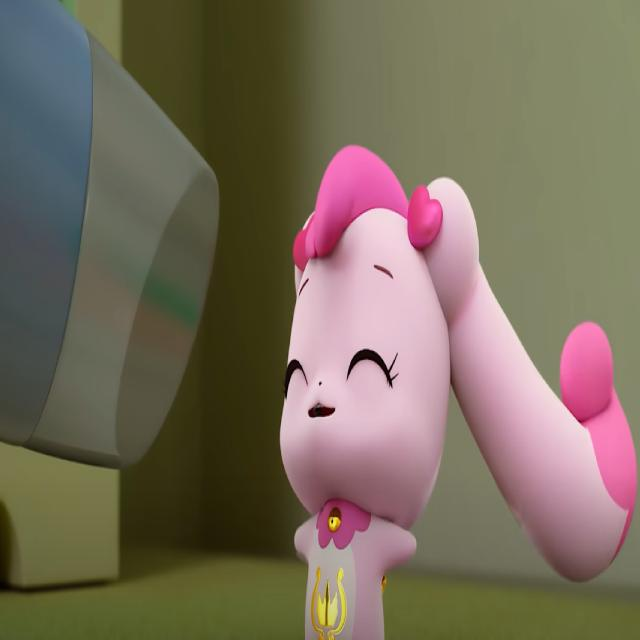Hachuping: (279, 143, 637, 640)
